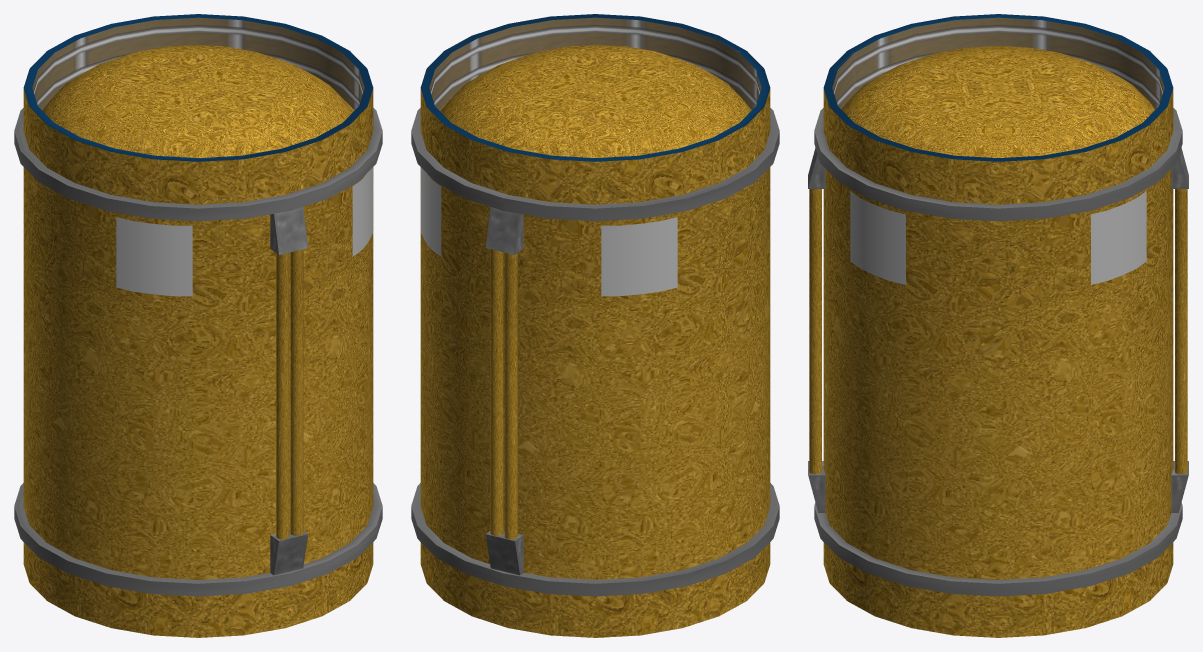
The model's file is FLM-7200MG.FBX.
The picture shows the model from 3 angles, left to right: view 1: azimuth 30°, elevation 25°; view 2: azimuth 150°, elevation 25°; view 3: azimuth 270°, elevation 25°; orthographic projection.
Visible parts, largest first — view 1: TankBody, TankSleeve001, EndCap001, TankSleeve002, BarrelBand003, BarrelBand002, decalPanel002, FuelPipe001, FuelPipe002, FuelPlug001, decalPanel001, FuelPlug002; view 2: TankBody, TankSleeve001, EndCap001, TankSleeve002, BarrelBand003, BarrelBand002, decalPanel003, FuelPipe003, FuelPipe004, FuelPlug003, decalPanel004, FuelPlug004; view 3: TankBody, TankSleeve001, EndCap001, TankSleeve002, BarrelBand003, BarrelBand002, decalPanel001, decalPanel004, FuelPipe002, FuelPipe004, FuelPlug002, FuelPlug004.
Part boxes in pixels (x1,y1,x2,y2): TankBody: (23, 167, 373, 579); TankSleeve001: (23, 14, 373, 204); EndCap001: (42, 45, 354, 157); TankSleeve002: (23, 542, 373, 637); BarrelBand003: (14, 108, 382, 221); BarrelBand002: (14, 483, 382, 596); decalPanel002: (116, 217, 192, 296); FuelPipe001: (276, 253, 289, 539); FuelPipe002: (290, 249, 303, 535); FuelPlug001: (270, 207, 308, 254); decalPanel001: (352, 167, 372, 256); FuelPlug002: (270, 531, 308, 575); TankBody: (420, 167, 770, 579); TankSleeve001: (420, 14, 770, 204); EndCap001: (439, 45, 751, 157); TankSleeve002: (420, 542, 770, 637); BarrelBand003: (411, 108, 779, 221); BarrelBand002: (411, 483, 779, 596); decalPanel003: (601, 217, 677, 296); FuelPipe003: (504, 253, 517, 539); FuelPipe004: (490, 249, 503, 535); FuelPlug003: (485, 207, 523, 254); decalPanel004: (421, 167, 441, 256); FuelPlug004: (485, 531, 523, 575); TankBody: (823, 169, 1173, 579); TankSleeve001: (823, 14, 1173, 204); EndCap001: (841, 46, 1155, 157); TankSleeve002: (823, 542, 1173, 637); BarrelBand003: (814, 108, 1182, 221); BarrelBand002: (814, 503, 1182, 596); decalPanel001: (850, 191, 905, 284); decalPanel004: (1091, 191, 1146, 284); FuelPipe002: (809, 189, 821, 474); FuelPipe004: (1175, 189, 1187, 474); FuelPlug002: (808, 461, 825, 512); FuelPlug004: (1171, 461, 1188, 512).
Size of what is drawn, in the model's own units: 2.63 by 2.72 by 3.75.
